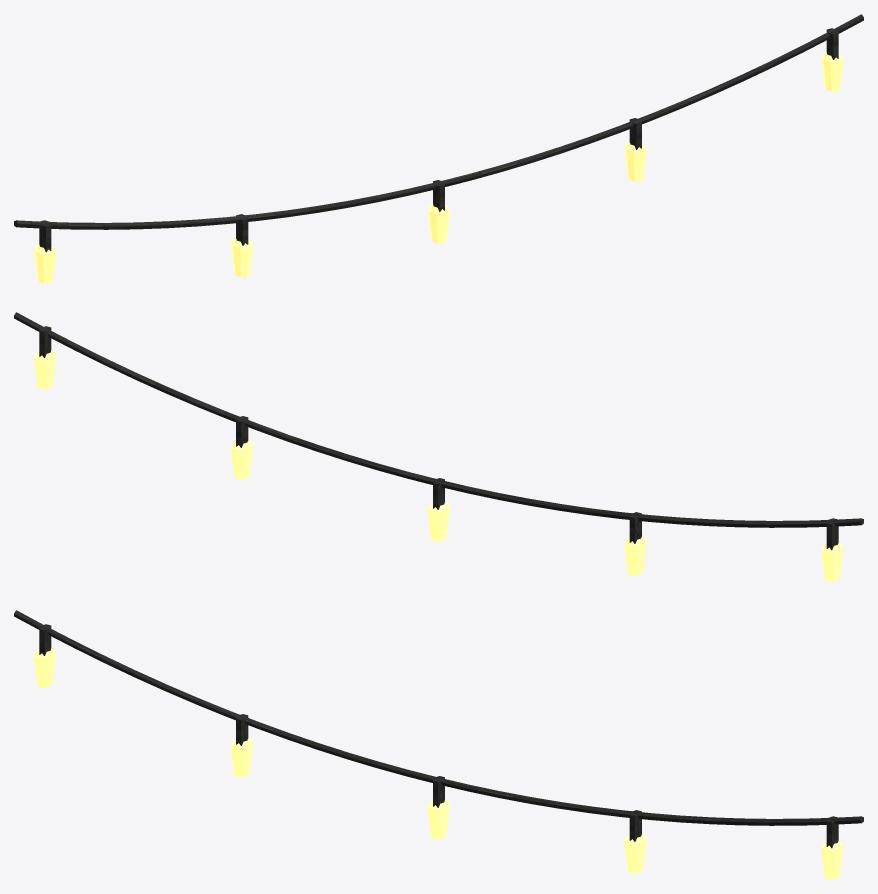
Rendered from string_lights_short.glb.
3 views of the same model, one above another, from view 1: azimuth 30°, elevation 25°; view 2: azimuth 150°, elevation 25°; view 3: azimuth 330°, elevation 25° (orthographic).
Visible parts, largest first — view 1: string_lights_short; view 2: string_lights_short; view 3: string_lights_short.
Boxes of the visible parts, <box> form: string_lights_short: <box>14,14,863,283</box>; string_lights_short: <box>14,312,863,581</box>; string_lights_short: <box>14,610,863,879</box>.
Bounding box in the file's own units: 2.85 × 0.395 × 0.0779.
2 materials, 2 textured.
